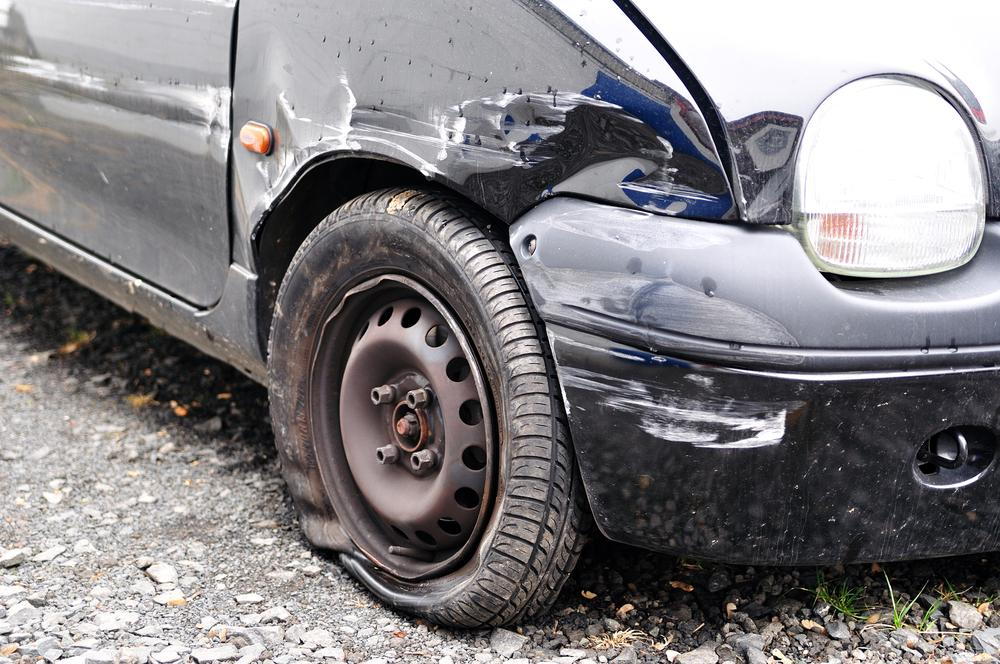dent: (460, 99, 671, 225), (727, 111, 800, 230)
scratch: (520, 199, 819, 447), (258, 65, 566, 199), (0, 47, 236, 167)
tire flat: (267, 189, 587, 631)
